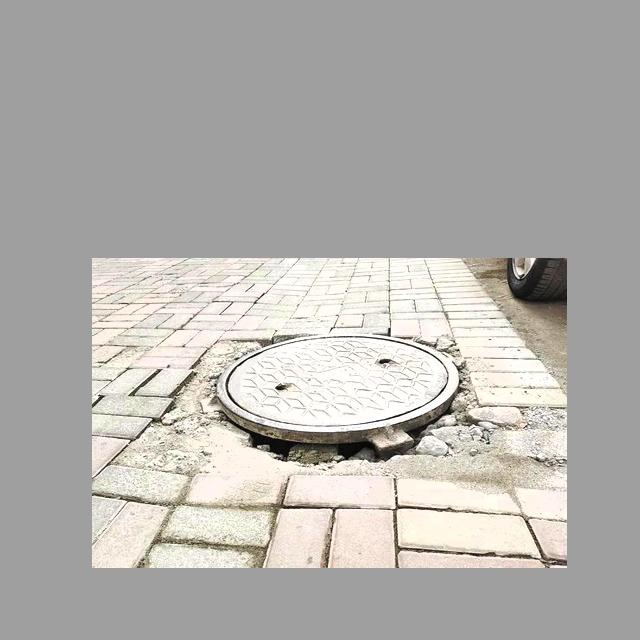circle: (125, 325, 504, 494)
